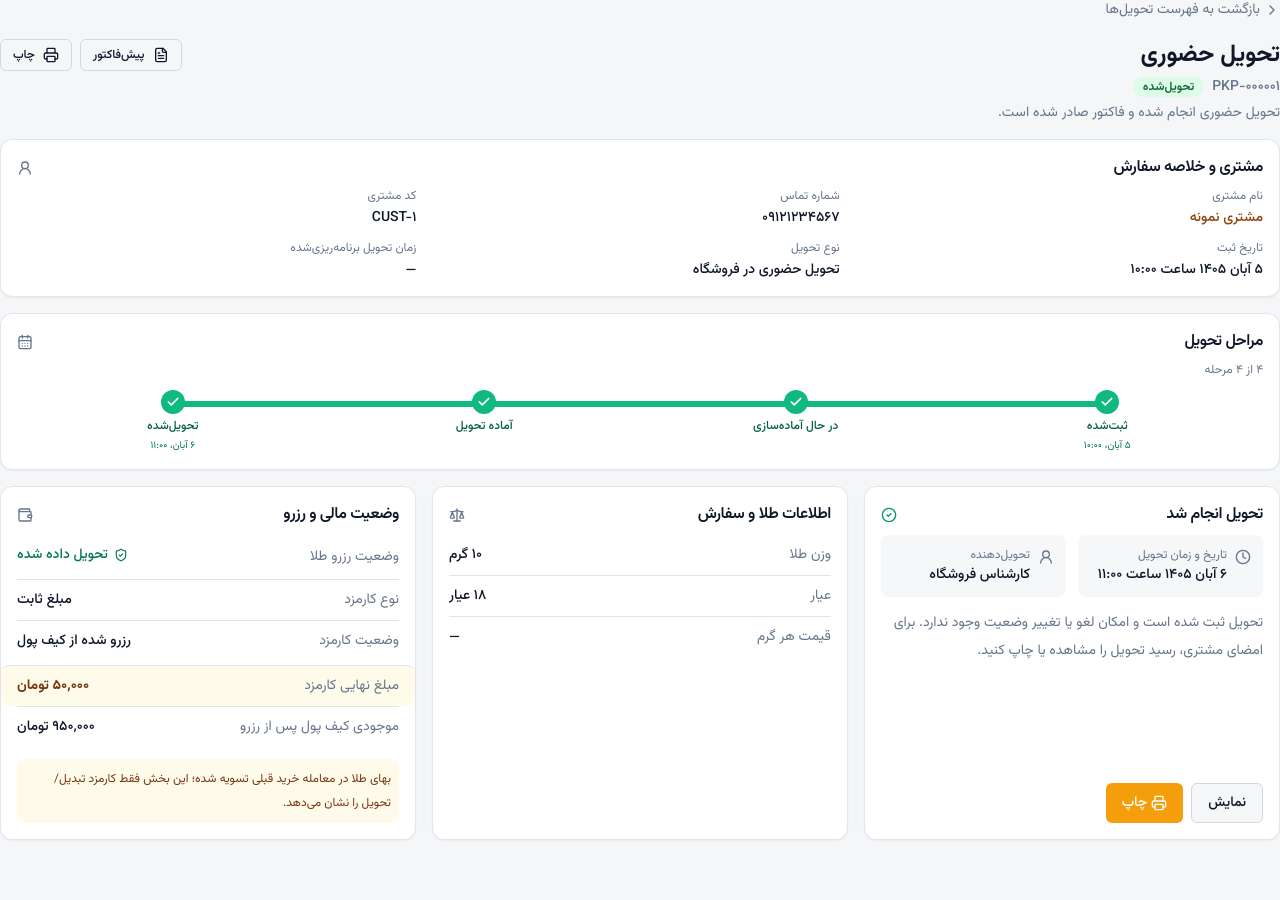
Test: pickup detail page › opens the same A5 receipt from the header print button after delivery
# The header toolbar button is the first "چاپ" on the page.
Click the 1st button "چاپ". click: click(36, 55)
box: [0,39,72,71]
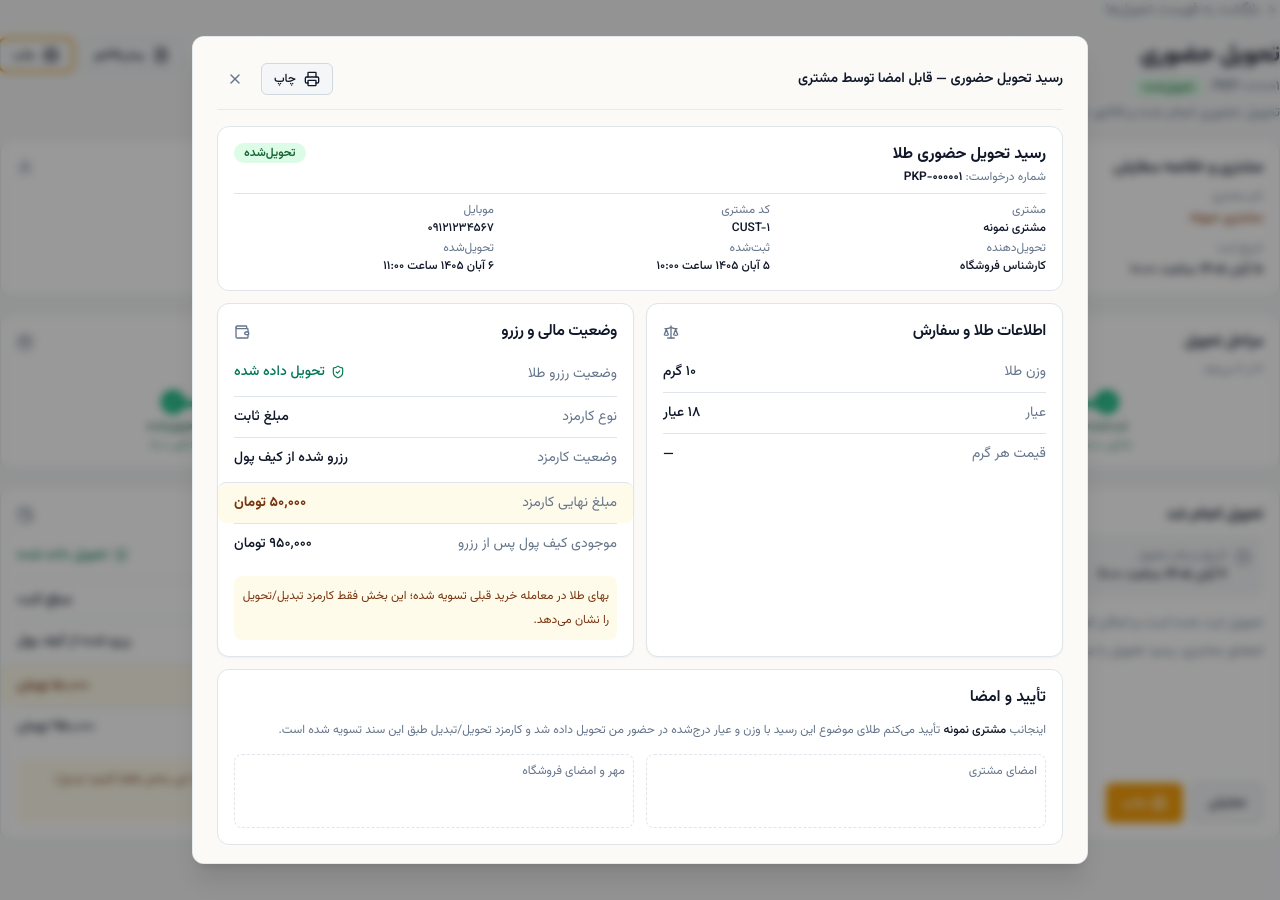
Expected: the text "رسید تحویل حضوری طلا" is shown, [893,143,1046,167]
Expected: the text "تأیید و امضا" is shown, [970,685,1046,710]
